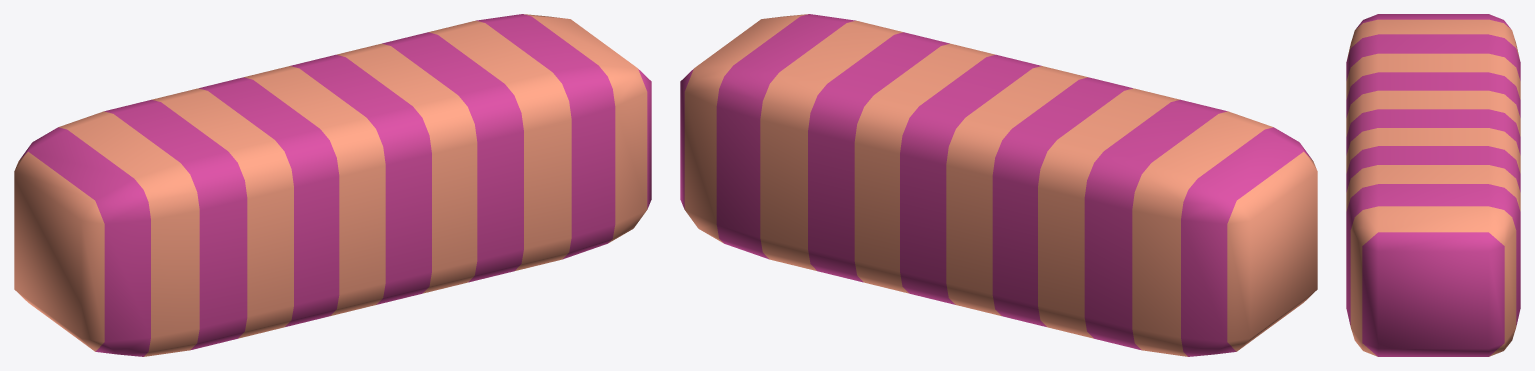
File: knocker01.glb
The picture shows the model from 3 angles, left to right: view 1: azimuth 30°, elevation 25°; view 2: azimuth 150°, elevation 25°; view 3: azimuth 270°, elevation 25°; orthographic projection. The views are drawn at different scales.
Parts seen in each view (by area): view 1: knocker.001; view 2: knocker.001; view 3: knocker.001.
Boxes of the visible parts, x1=… form: knocker.001: x1=14, y1=14, x2=651, y2=356; knocker.001: x1=680, y1=14, x2=1317, y2=356; knocker.001: x1=1346, y1=14, x2=1520, y2=356.
Size of what is drawn, in the model's own units: 3.08 by 0.9546 by 0.9877.
1 material, 1 textured.
